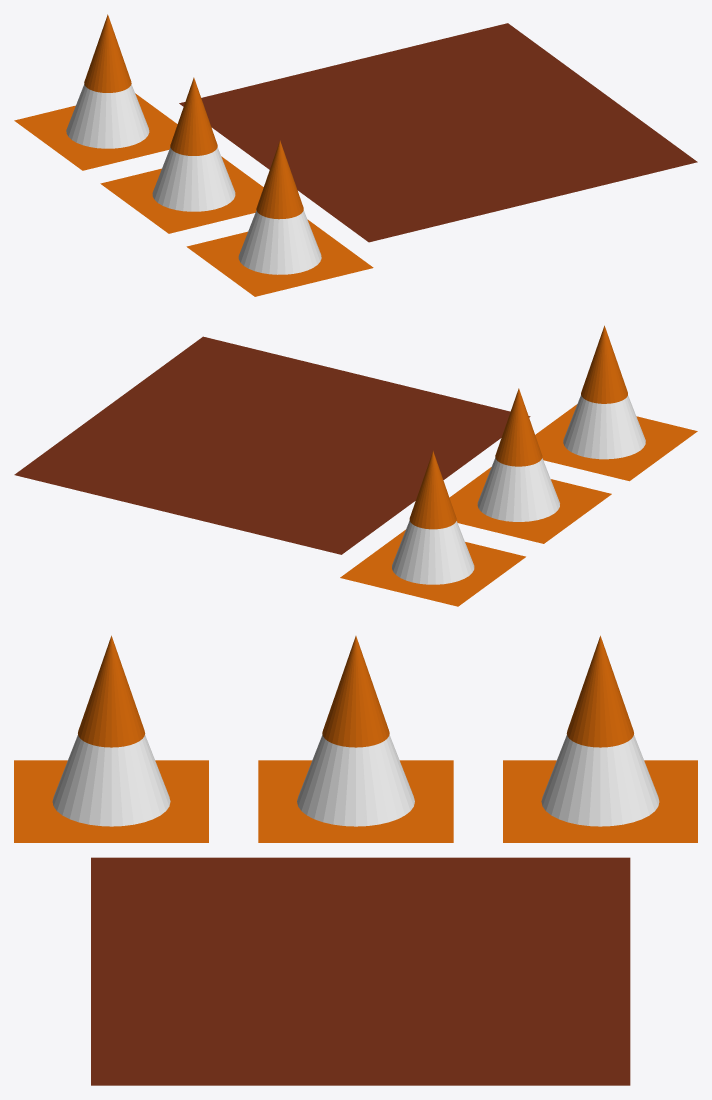
The model's file is barricade 2.fbx.
The picture shows the model from 3 angles, top to bottom: view 1: azimuth 30°, elevation 25°; view 2: azimuth 150°, elevation 25°; view 3: azimuth 270°, elevation 25°; orthographic projection. The views are drawn at different scales.
Visible parts, largest first — view 1: Plane.091, Plane.090, Plane.088, Plane.089, Cone.006, Cone.004, Cone.008, Cone.005, Cone.007, Cone.009; view 2: Plane.091, Plane.089, Plane.090, Plane.088, Cone.008, Cone.004, Cone.006, Cone.007, Cone.005, Cone.009; view 3: Plane.091, Plane.088, Plane.089, Plane.090, Cone.006, Cone.008, Cone.004, Cone.007, Cone.009, Cone.005.
Boxes of the visible parts, left/top/right/bottom form: Plane.091: left=179, top=23, right=697, bottom=242; Plane.090: left=186, top=219, right=373, bottom=296; Plane.088: left=100, top=156, right=263, bottom=233; Plane.089: left=14, top=93, right=177, bottom=170; Cone.006: left=66, top=84, right=149, bottom=148; Cone.004: left=152, top=147, right=235, bottom=211; Cone.008: left=238, top=210, right=321, bottom=274; Cone.005: left=170, top=77, right=217, bottom=155; Cone.007: left=84, top=14, right=131, bottom=92; Cone.009: left=256, top=140, right=303, bottom=219; Plane.091: left=14, top=336, right=530, bottom=554; Plane.089: left=340, top=529, right=525, bottom=606; Plane.090: left=535, top=404, right=697, bottom=481; Plane.088: left=449, top=467, right=611, bottom=543; Cone.008: left=563, top=395, right=645, bottom=459; Cone.004: left=477, top=458, right=559, bottom=521; Cone.006: left=392, top=520, right=474, bottom=584; Cone.007: left=409, top=451, right=456, bottom=529; Cone.005: left=495, top=388, right=542, bottom=466; Cone.009: left=581, top=325, right=627, bottom=403; Plane.091: left=91, top=857, right=630, bottom=1085; Plane.088: left=258, top=760, right=453, bottom=842; Plane.089: left=503, top=760, right=697, bottom=842; Plane.090: left=14, top=760, right=208, bottom=842; Cone.006: left=541, top=735, right=659, bottom=826; Cone.008: left=52, top=735, right=170, bottom=826; Cone.004: left=297, top=734, right=414, bottom=826; Cone.007: left=566, top=635, right=633, bottom=747; Cone.009: left=78, top=635, right=145, bottom=747; Cone.005: left=322, top=636, right=389, bottom=747.
Bounding box in the file's own units: 484 × 115 × 430.
